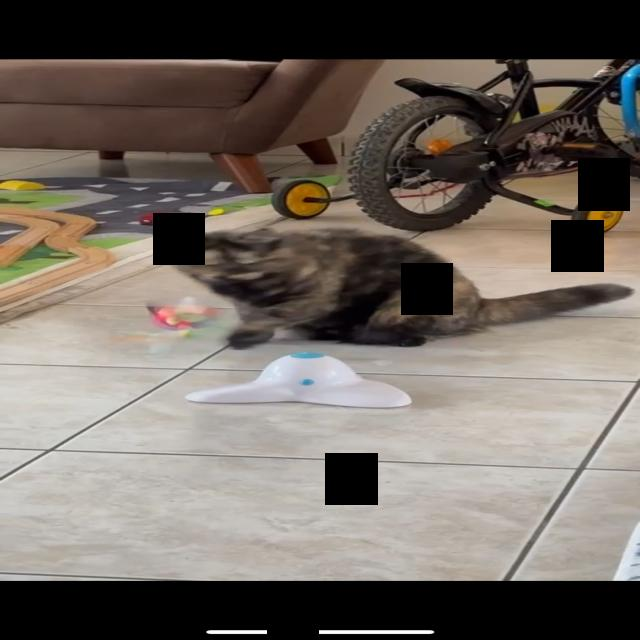authorized: (167, 226, 633, 350)
